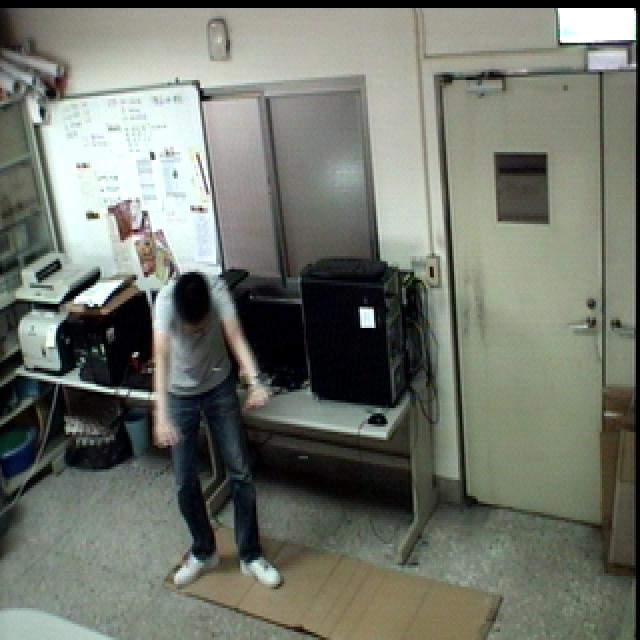bend: (145, 266, 296, 600)
